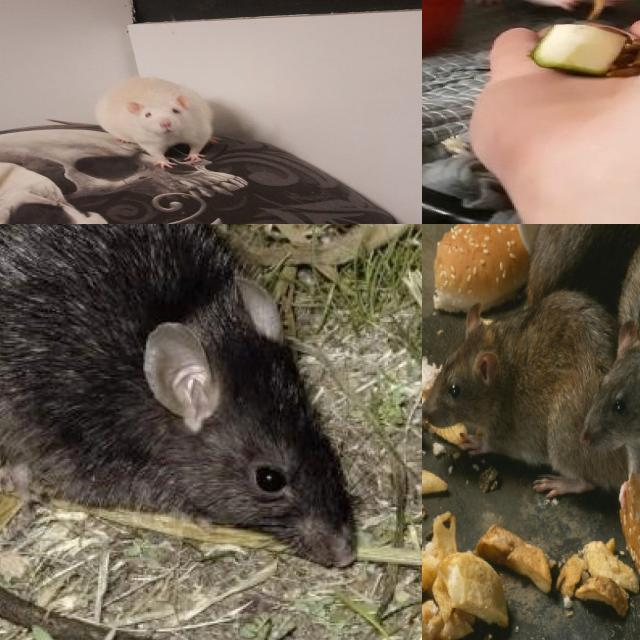rat: (0, 224, 366, 640), (422, 300, 586, 487), (583, 238, 640, 457), (98, 77, 214, 171)
